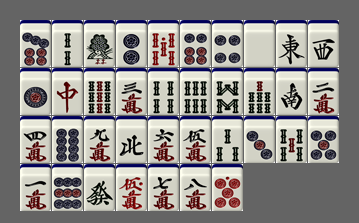0m: (116, 164, 147, 211)
0p: (212, 164, 243, 211)
0s: (148, 20, 179, 67)
1m: (20, 164, 51, 211)
1p: (20, 68, 51, 115)
1s: (84, 20, 115, 67)
1z: (276, 20, 307, 67)
2m: (308, 68, 339, 115)
2p: (116, 20, 147, 67)
2s: (52, 20, 83, 67)
2z: (276, 68, 307, 115)
3m: (116, 68, 147, 115)
3p: (244, 116, 275, 163)
3s: (212, 116, 243, 163)
3z: (308, 20, 339, 67)
4m: (20, 116, 51, 163)
4p: (212, 20, 243, 67)
4s: (148, 68, 179, 115)
4z: (116, 116, 147, 163)
5m: (180, 116, 211, 163)
5p: (308, 116, 339, 163)
5s: (276, 116, 307, 163)
5z: (244, 20, 275, 67)
6m: (148, 116, 179, 163)
6p: (180, 20, 211, 67)
6s: (180, 68, 211, 115)
6z: (84, 164, 115, 211)
7m: (148, 164, 179, 211)
7p: (20, 20, 51, 67)
7s: (244, 68, 275, 115)
7z: (52, 68, 83, 115)
8m: (180, 164, 211, 211)
8p: (52, 116, 83, 163)
8s: (212, 68, 243, 115)
9m: (84, 116, 115, 163)
9p: (52, 164, 83, 211)
9s: (84, 68, 115, 115)
